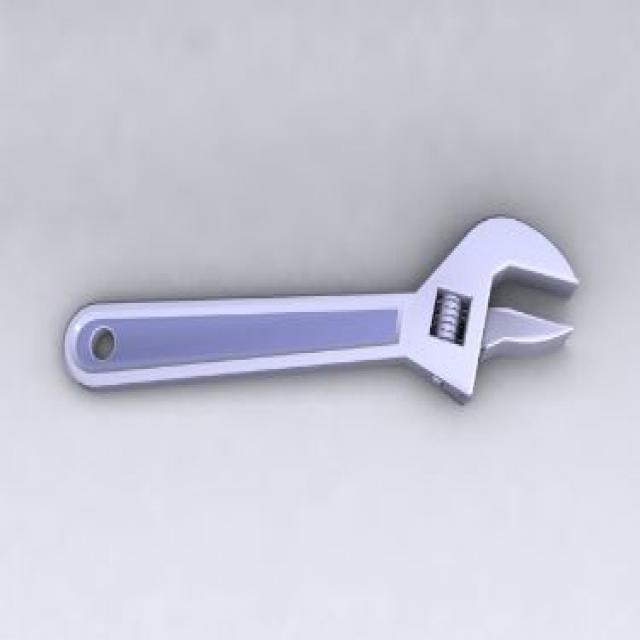wrench: (67, 200, 574, 416)
